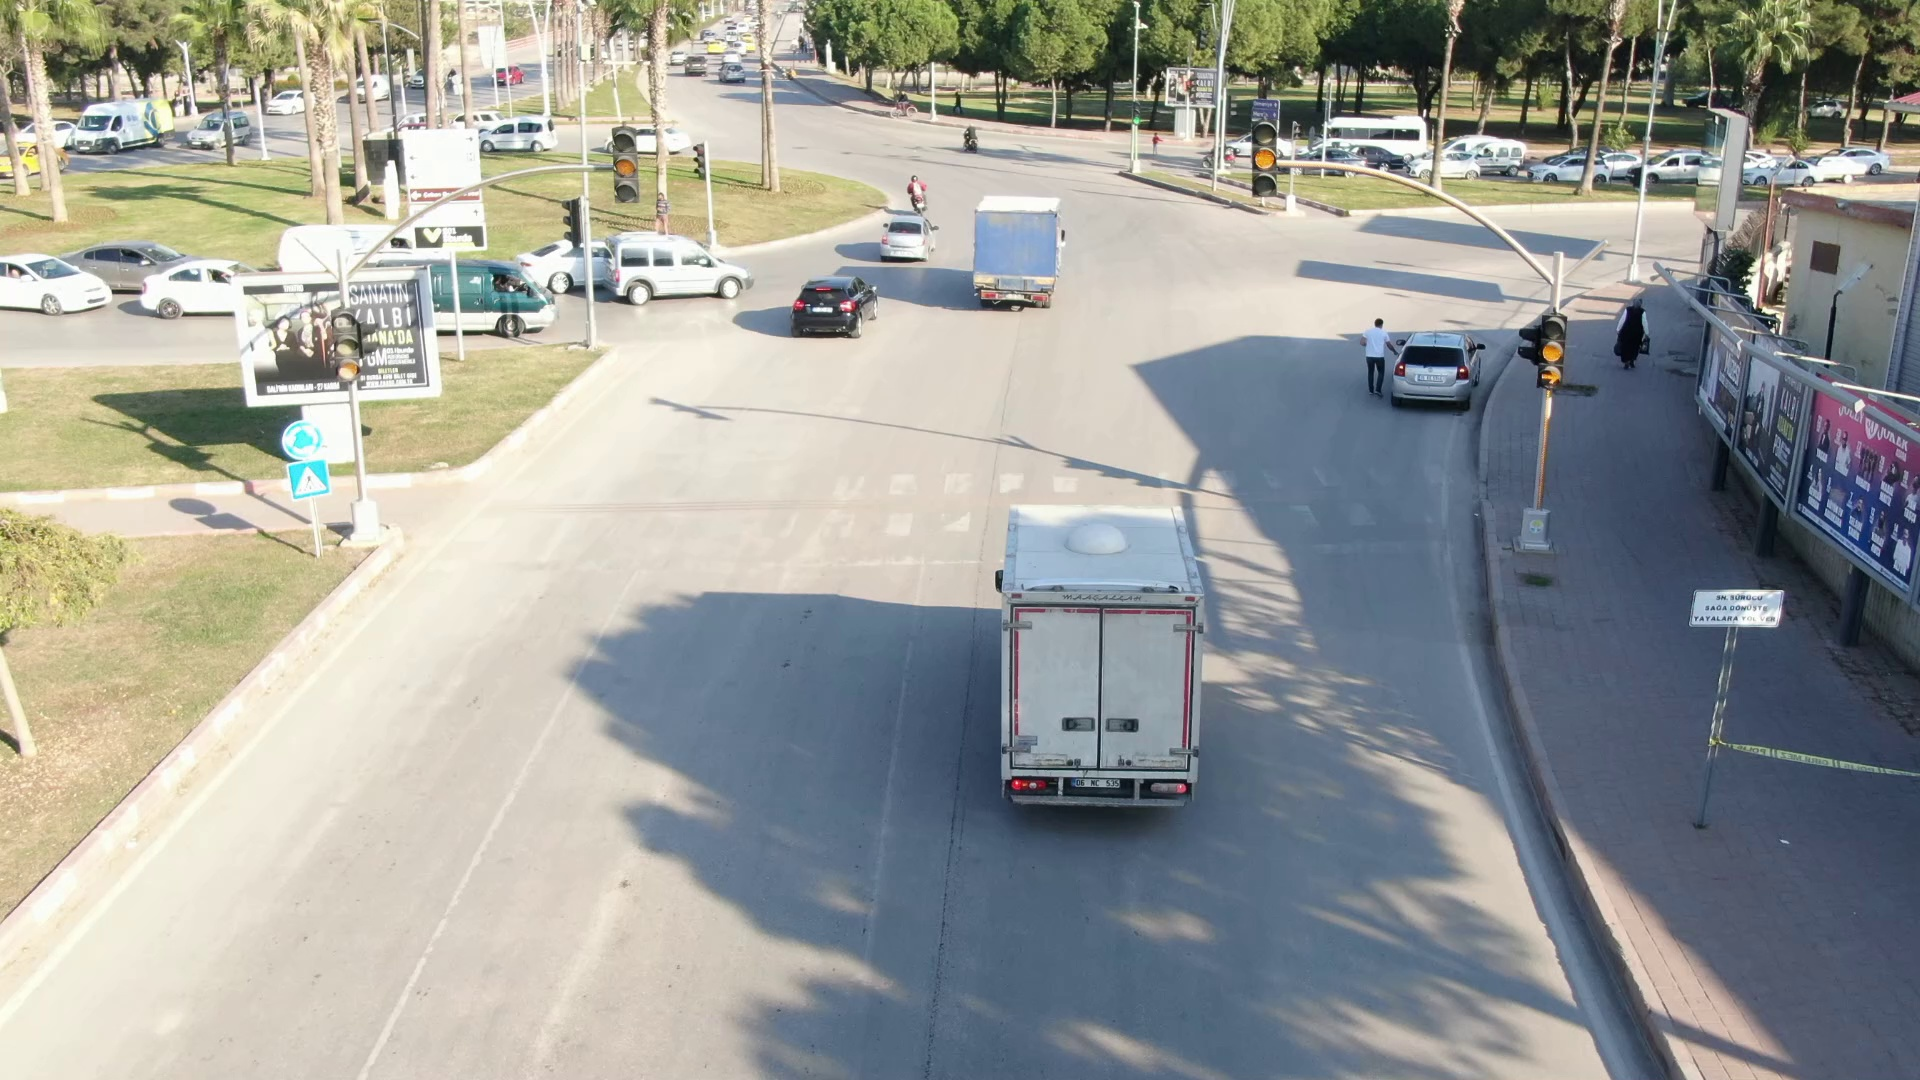car: (956, 483, 1250, 810), (957, 187, 1093, 312), (594, 227, 766, 305), (1387, 325, 1494, 411), (1, 259, 113, 327), (787, 269, 886, 339), (857, 204, 944, 261), (1525, 147, 1622, 188)
person: (1603, 287, 1656, 376), (1353, 310, 1398, 395)
